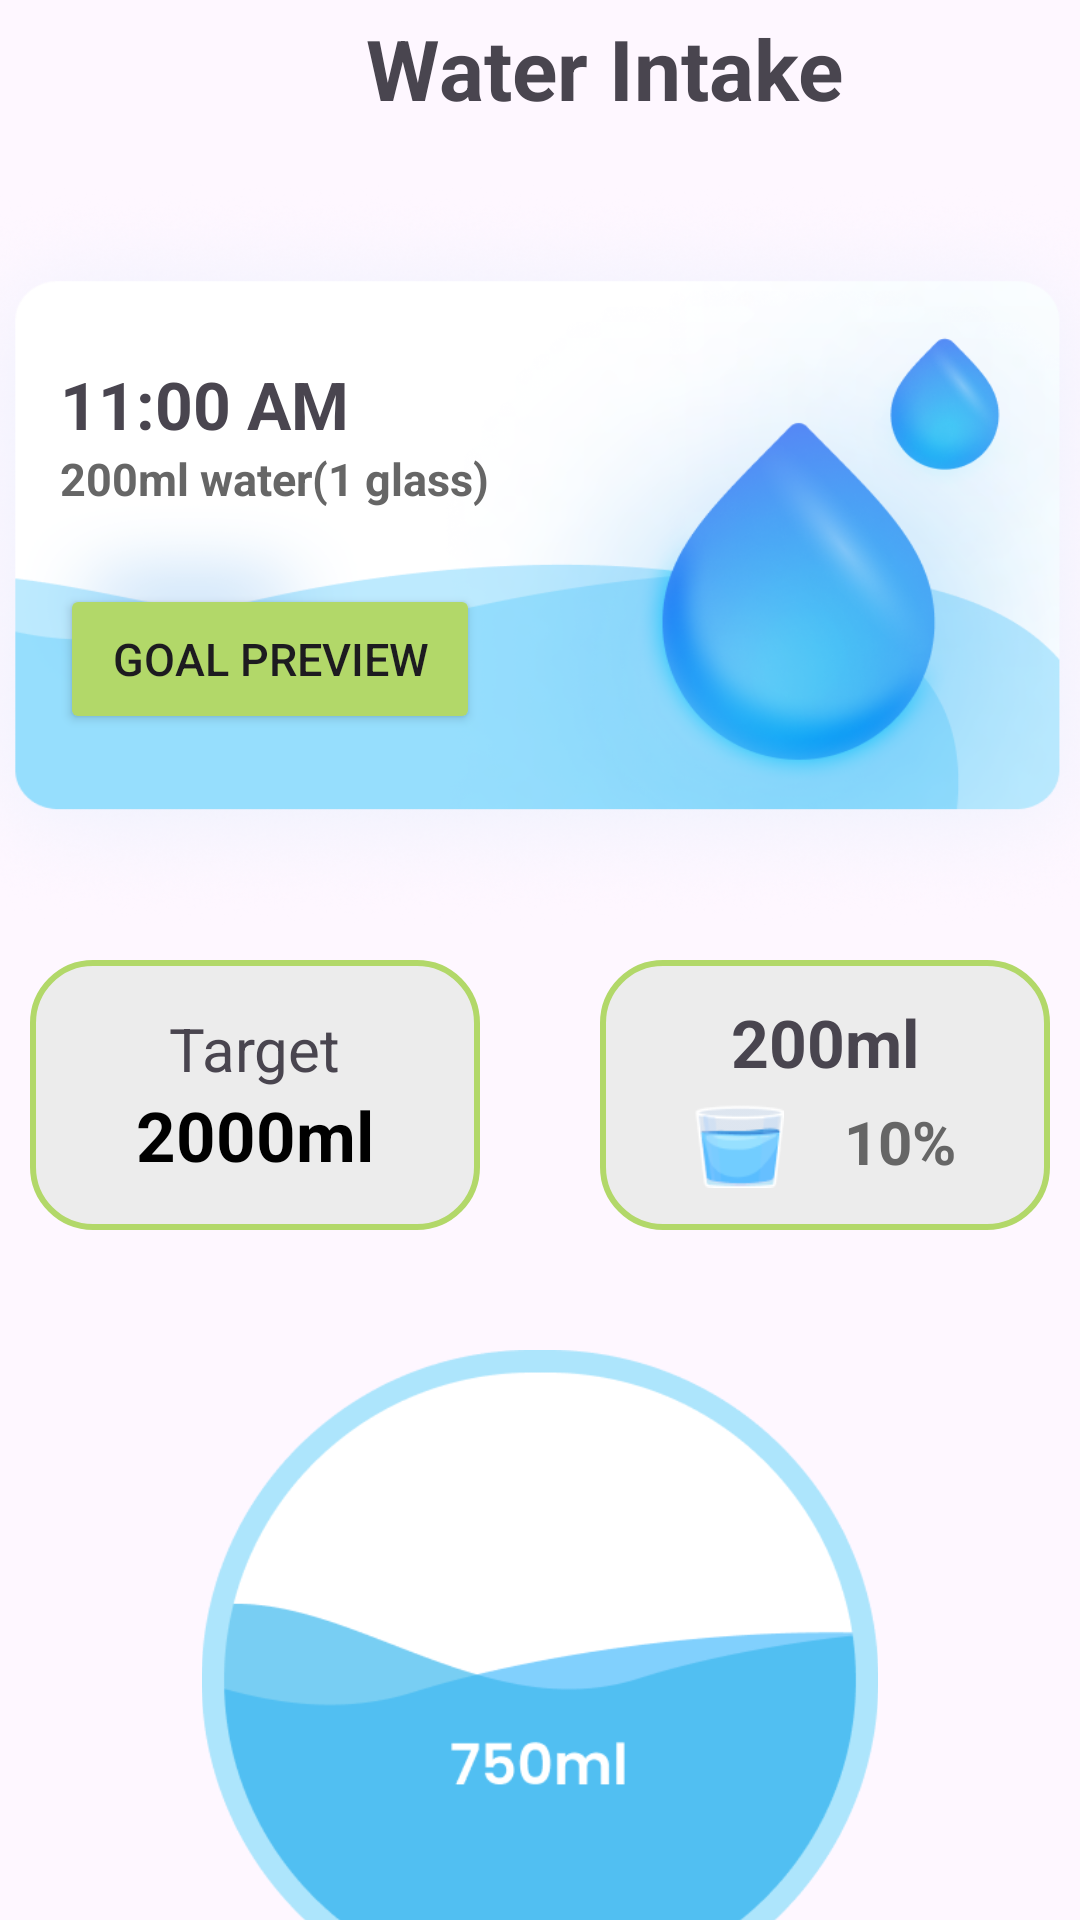

Locate icon controls on the screen. Image size 1080×1920, boxes as box=[x1, y1, x2, y2].
glass: box=[701, 1117, 780, 1186]
